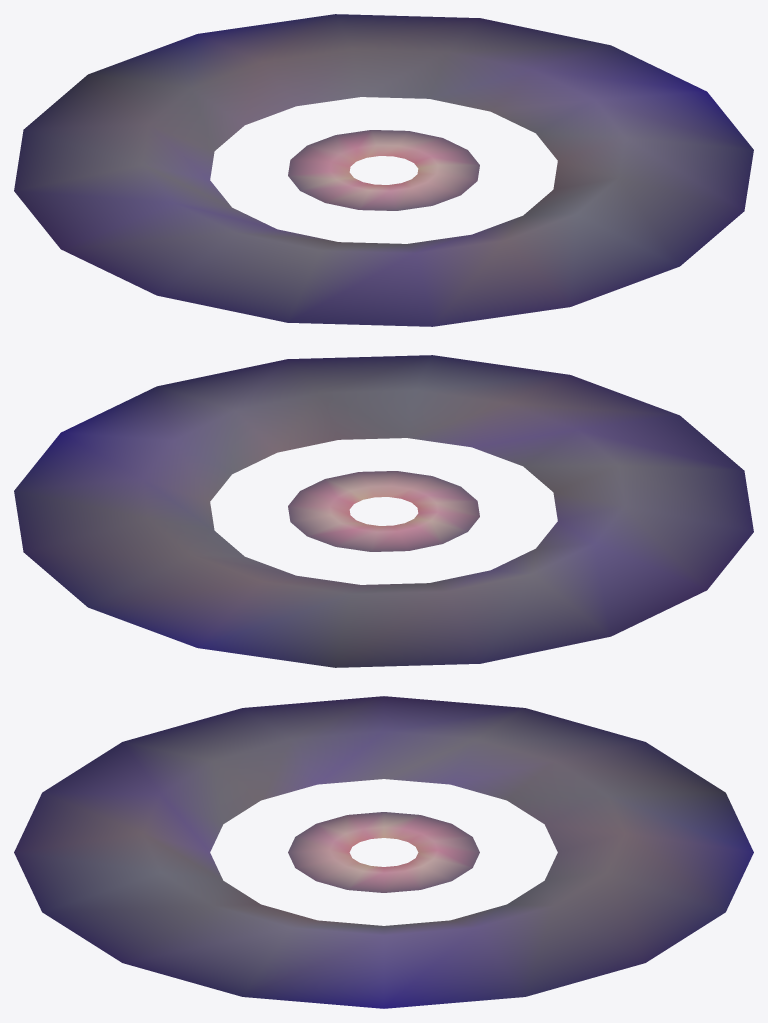
Rendered from space-nebulae-ring-nebula_v5.glb.
The picture shows the model from 3 angles, top to bottom: view 1: azimuth 30°, elevation 25°; view 2: azimuth 150°, elevation 25°; view 3: azimuth 270°, elevation 25°; orthographic projection.
Parts seen in each view (by area): view 1: Ring Nebula_v5; view 2: Ring Nebula_v5; view 3: Ring Nebula_v5.
Part boxes in pixels (x1=…): Ring Nebula_v5: x1=14, y1=14, x2=753, y2=326; Ring Nebula_v5: x1=14, y1=355, x2=753, y2=667; Ring Nebula_v5: x1=14, y1=696, x2=753, y2=1008.
Bounding box in the file's own units: 0.5 × 0.0283 × 0.5.
